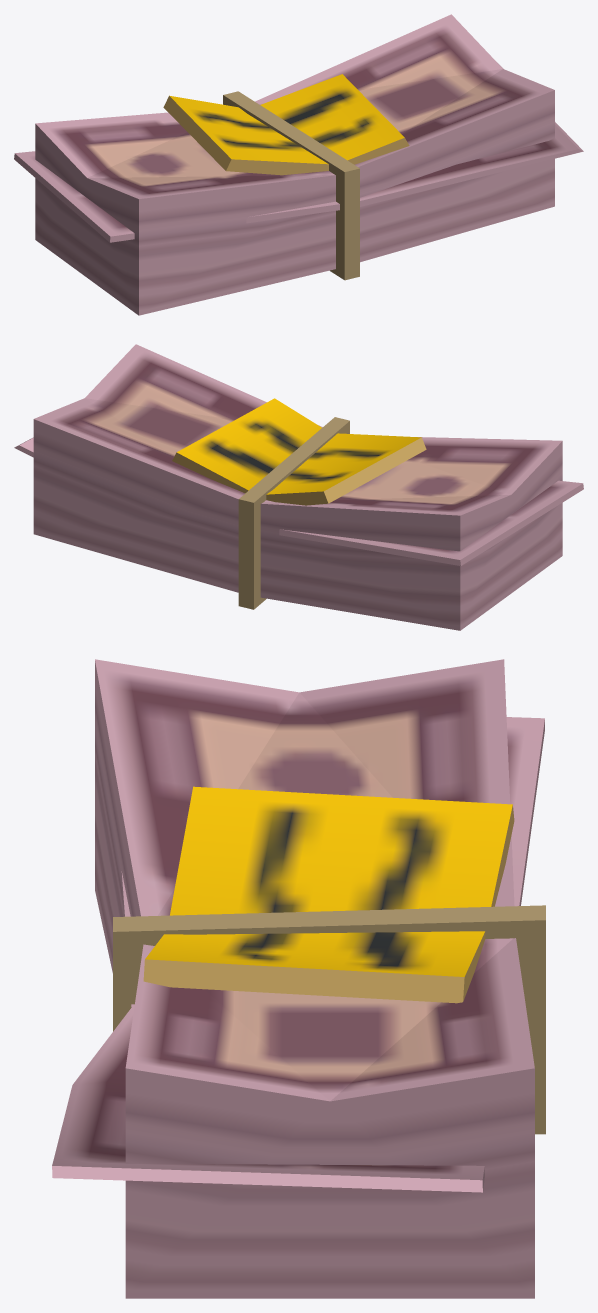
Rendered from SM_Prop_Money_Strapped_02.glb.
3 views of the same model, one above another, from view 1: azimuth 30°, elevation 25°; view 2: azimuth 150°, elevation 25°; view 3: azimuth 270°, elevation 25° (orthographic). The views are drawn at different scales.
Visible parts, largest first — view 1: SM_Prop_Money_Strapped_02; view 2: SM_Prop_Money_Strapped_02; view 3: SM_Prop_Money_Strapped_02.
Part boxes in pixels (x1,y1,x2,y2): SM_Prop_Money_Strapped_02: (14, 14, 583, 315); SM_Prop_Money_Strapped_02: (14, 344, 583, 630); SM_Prop_Money_Strapped_02: (52, 659, 545, 1298).
Bounding box in the file's own units: 0.3111 × 0.0838 × 0.1396.
1 material, 1 textured.
